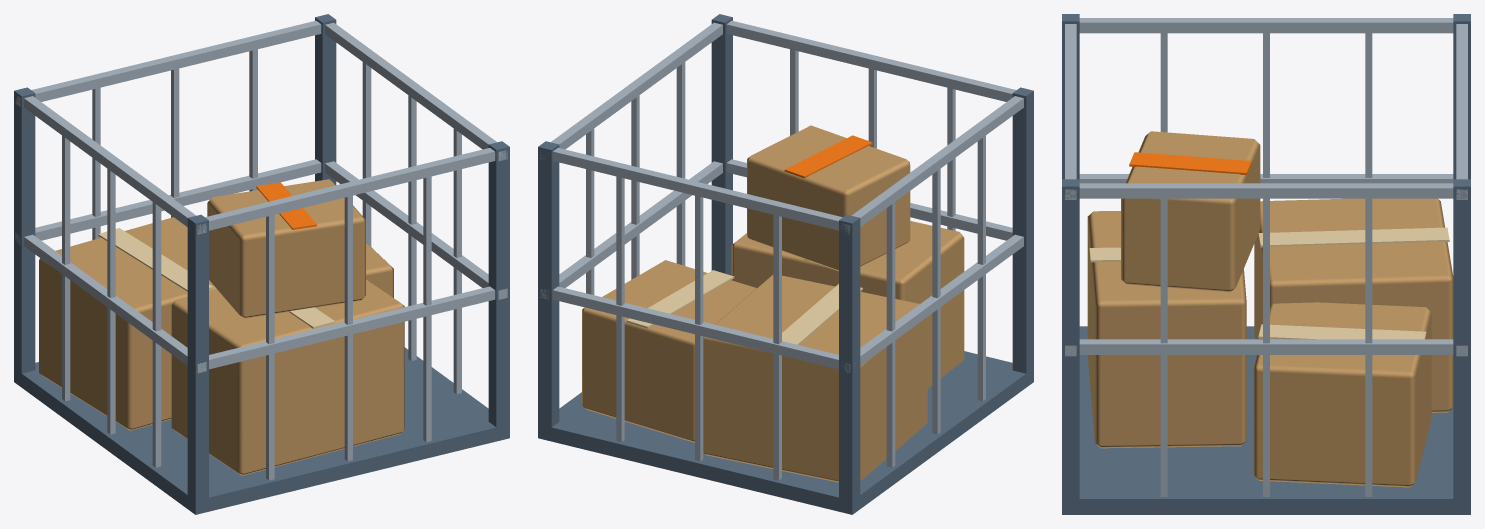
The model's file is station_transport_ausstattung_1_1.glb.
The picture shows the model from 3 angles, left to right: view 1: azimuth 30°, elevation 25°; view 2: azimuth 150°, elevation 25°; view 3: azimuth 270°, elevation 25°; orthographic projection. The views are drawn at different scales.
Visible parts, largest first — view 1: station_transport_ausstattung_1_1; view 2: station_transport_ausstattung_1_1; view 3: station_transport_ausstattung_1_1.
Part boxes in pixels (x1,y1,x2,y2): station_transport_ausstattung_1_1: (14,14,509,514); station_transport_ausstattung_1_1: (538,14,1033,514); station_transport_ausstattung_1_1: (1062,14,1470,514).
Size of the model in its own units: 0.7 by 0.62 by 0.7.
